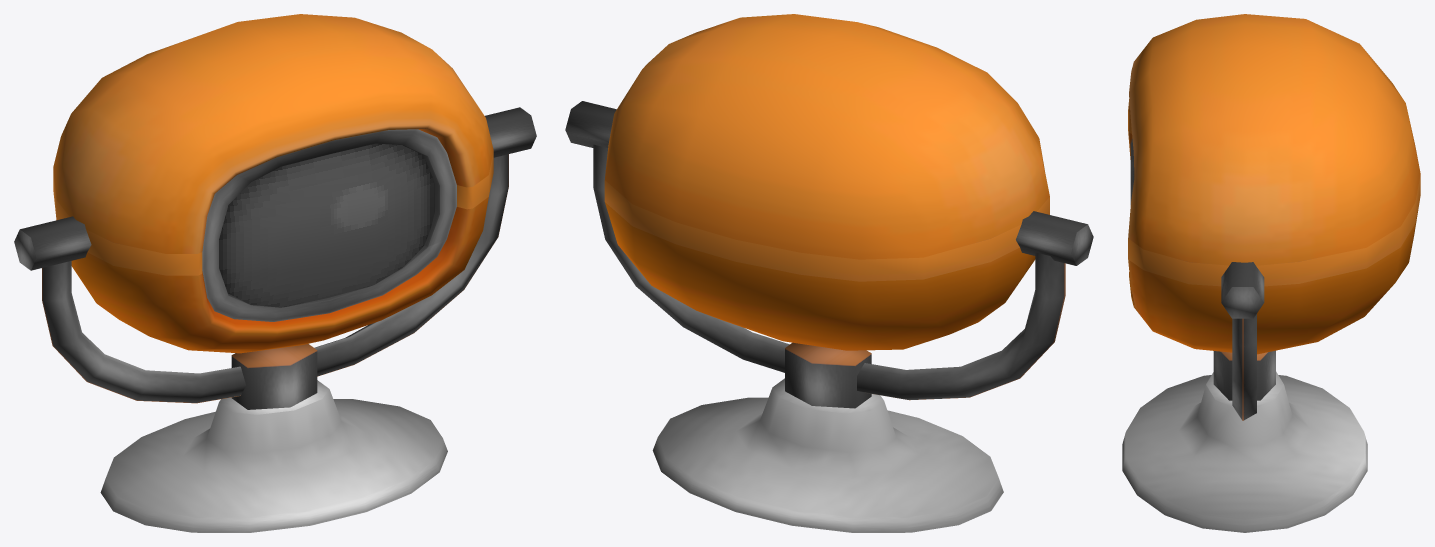
File: rmk_fut_tv.dae
The picture shows the model from 3 angles, left to right: view 1: azimuth 30°, elevation 25°; view 2: azimuth 150°, elevation 25°; view 3: azimuth 270°, elevation 25°; orthographic projection. The views are drawn at different scales.
Visible parts, largest first — view 1: rmk_fut_tv; view 2: rmk_fut_tv; view 3: rmk_fut_tv.
Boxes of the visible parts, left/top/right/bottom form: rmk_fut_tv: left=14, top=14, right=536, bottom=532; rmk_fut_tv: left=565, top=14, right=1093, bottom=532; rmk_fut_tv: left=1122, top=14, right=1420, bottom=532.
Bounding box in the file's own units: 48.11 × 39.53 × 25.97.
Materials: 2 (2 with a texture image).
